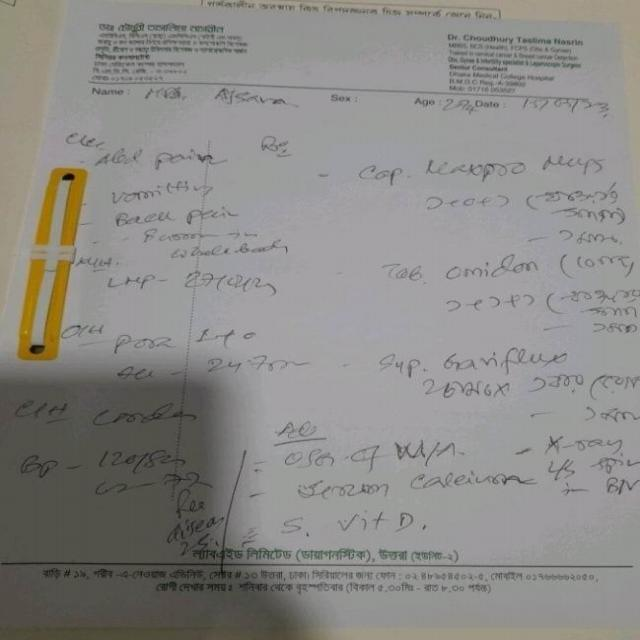Gaviflux: (435, 336, 580, 371)
Maxpro Mups: (417, 141, 614, 178)
Omidon: (429, 256, 555, 284)
